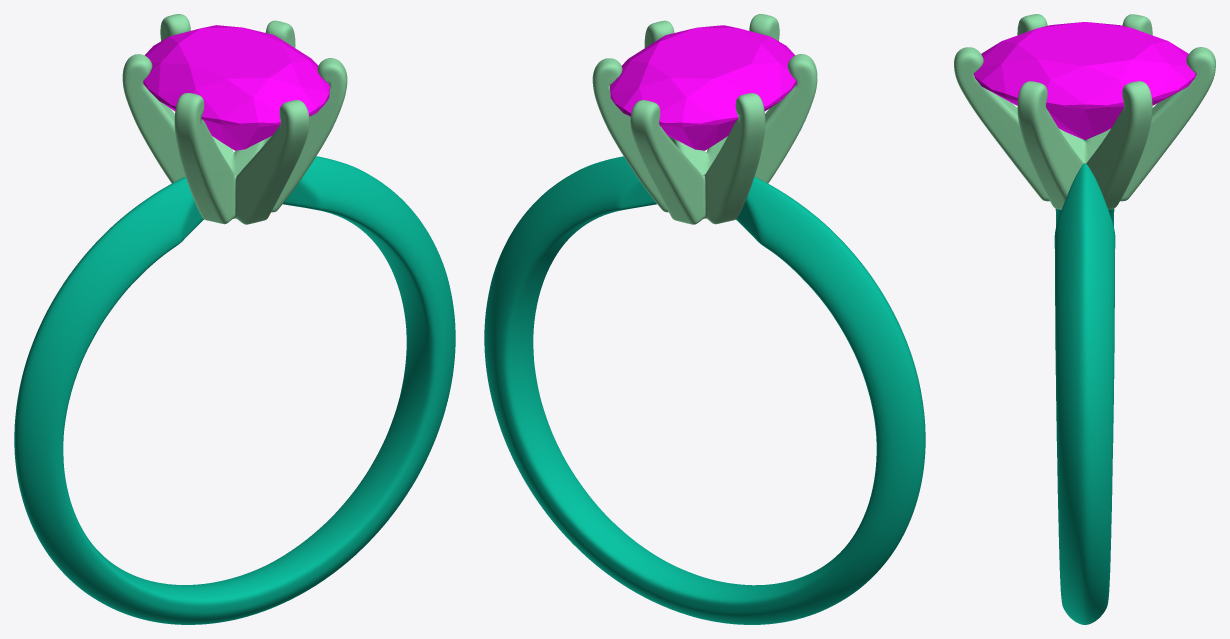
The model's file is BE121H6_OV_200ct_RENDER.glb.
3 renders of one model, left to right at view 1: azimuth 30°, elevation 25°; view 2: azimuth 150°, elevation 25°; view 3: azimuth 270°, elevation 25°, orthographic.
Visible parts, largest first — view 1: Metal 01, Metal 02, CS_Diamond_Oval; view 2: Metal 01, Metal 02, CS_Diamond_Oval; view 3: Metal 01, Metal 02, CS_Diamond_Oval.
Part boxes in pixels (x1,y1,x2,y2): Metal 01: (14, 156, 455, 624); Metal 02: (122, 14, 347, 224); CS_Diamond_Oval: (143, 25, 329, 150); Metal 01: (484, 156, 925, 624); Metal 02: (592, 14, 817, 224); CS_Diamond_Oval: (610, 25, 796, 150); Metal 01: (1054, 140, 1115, 624); Metal 02: (954, 14, 1215, 209); CS_Diamond_Oval: (973, 22, 1196, 139).
Size of the model in its own units: 20.07 by 24.71 by 10.52.
